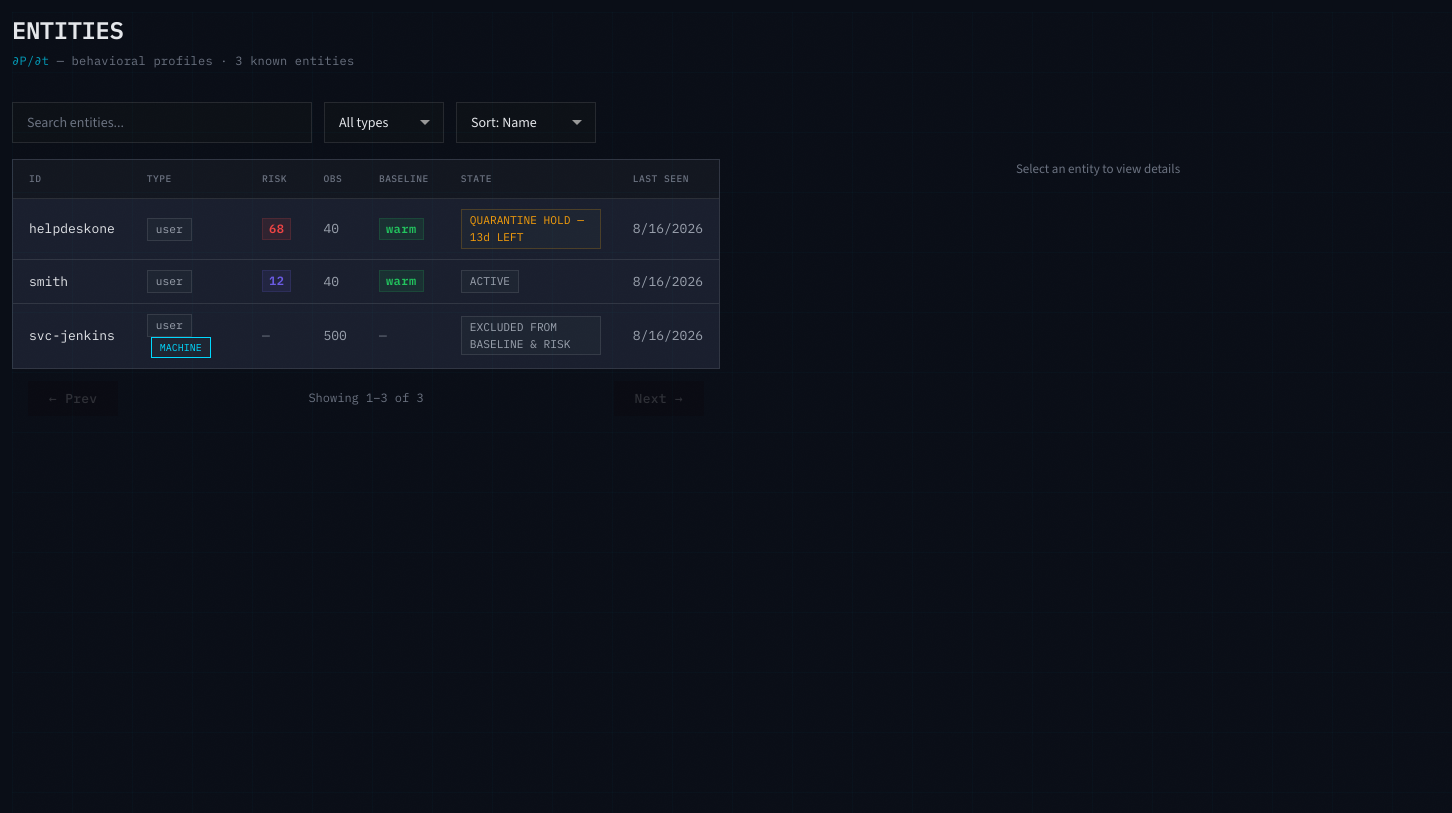
Entities page — Phase 2 states (mockup 04) › shows the machine-account panel with the blind-spot warning
Click the text "svc-jenkins": (72, 335) [13,303,131,368]
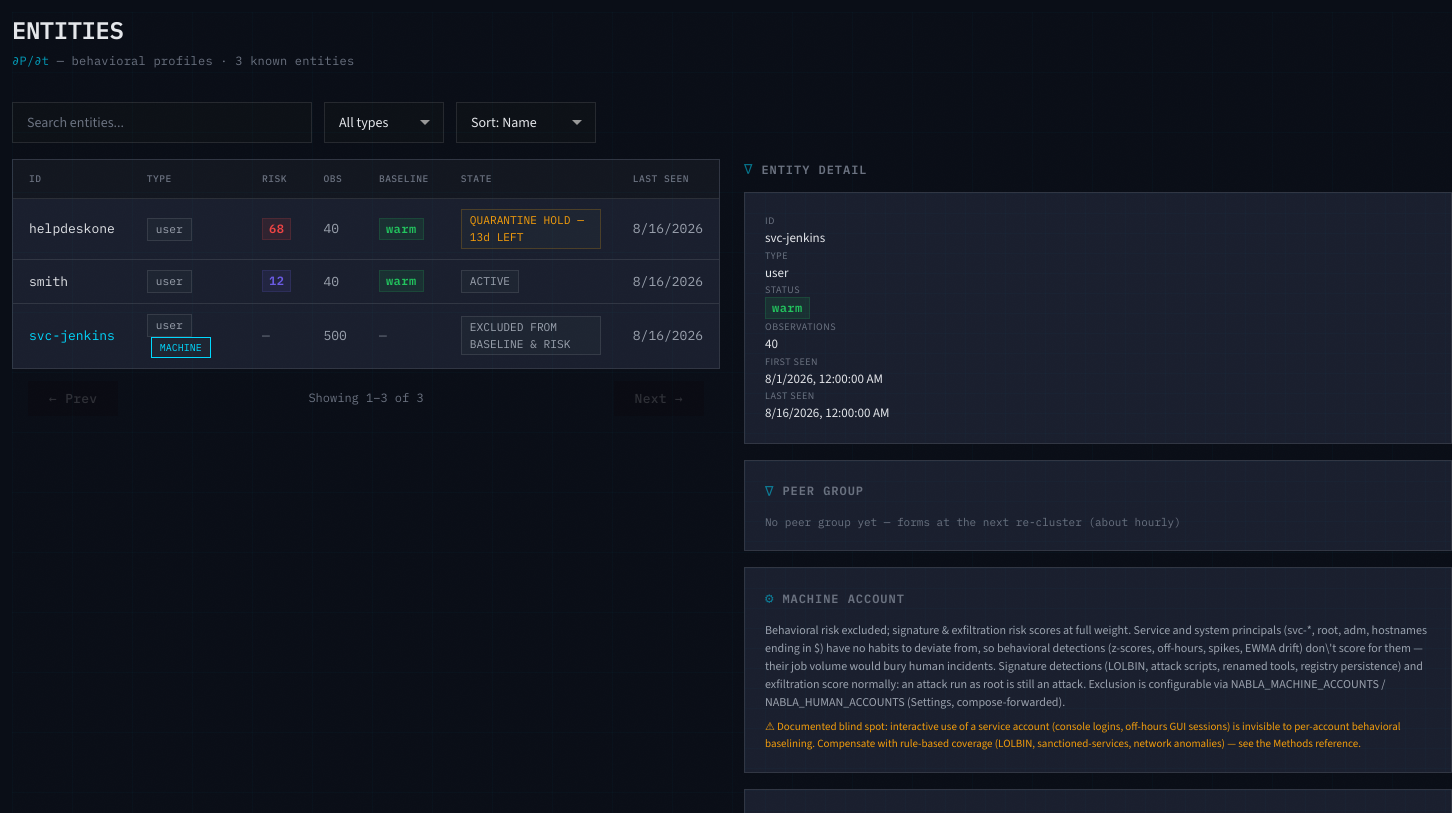
Check: the text "MACHINE ACCOUNT" is shown, box [782,590,905,606]
Check: the text "Documented blind spot" is shown, box [765,719,1400,750]
